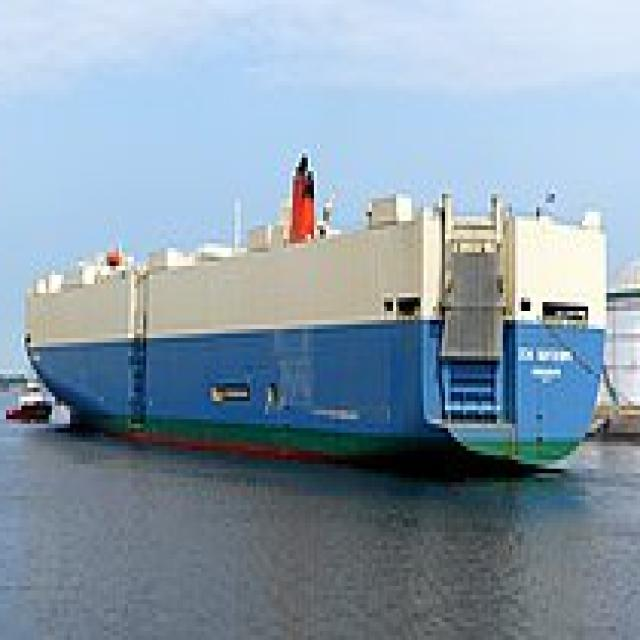Carrier: (24, 144, 616, 473)
